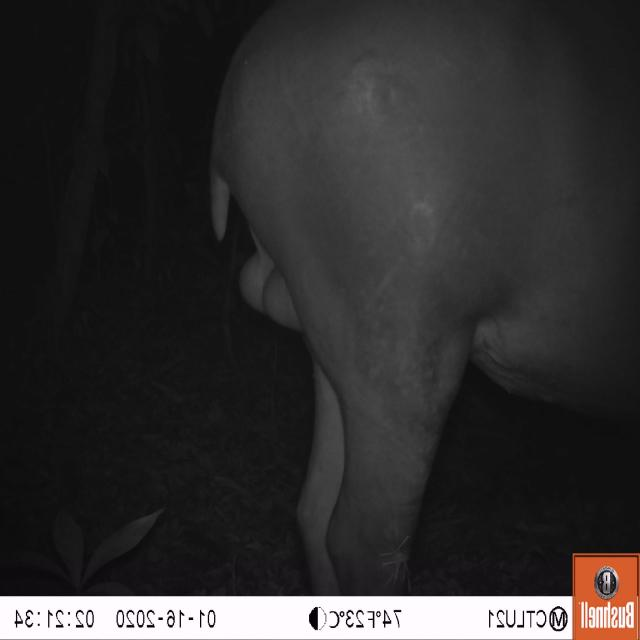Lowland Tapir: (212, 8, 636, 598)
